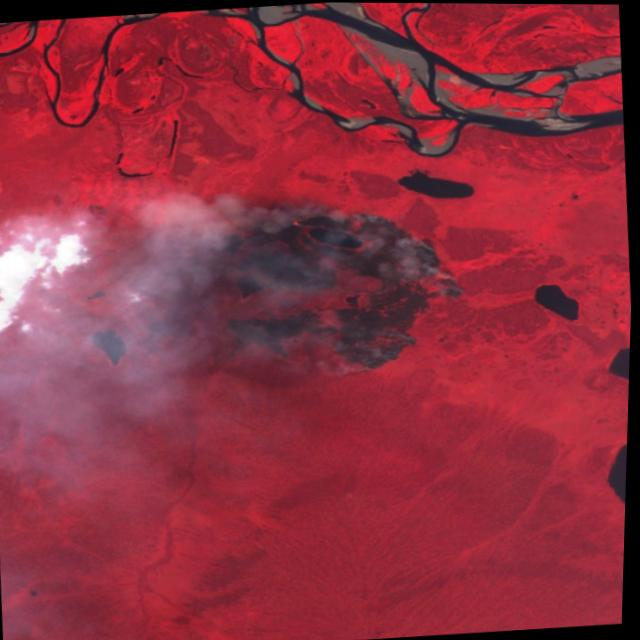fire: (229, 193, 484, 382)
